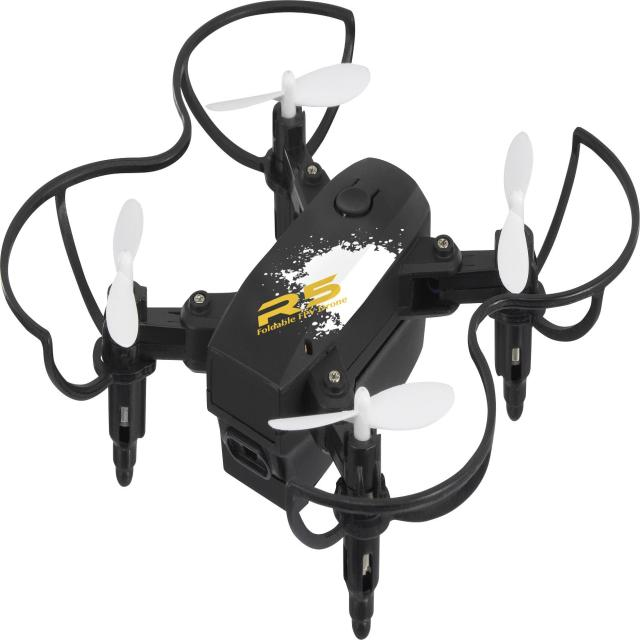drone: (67, 27, 623, 521)
